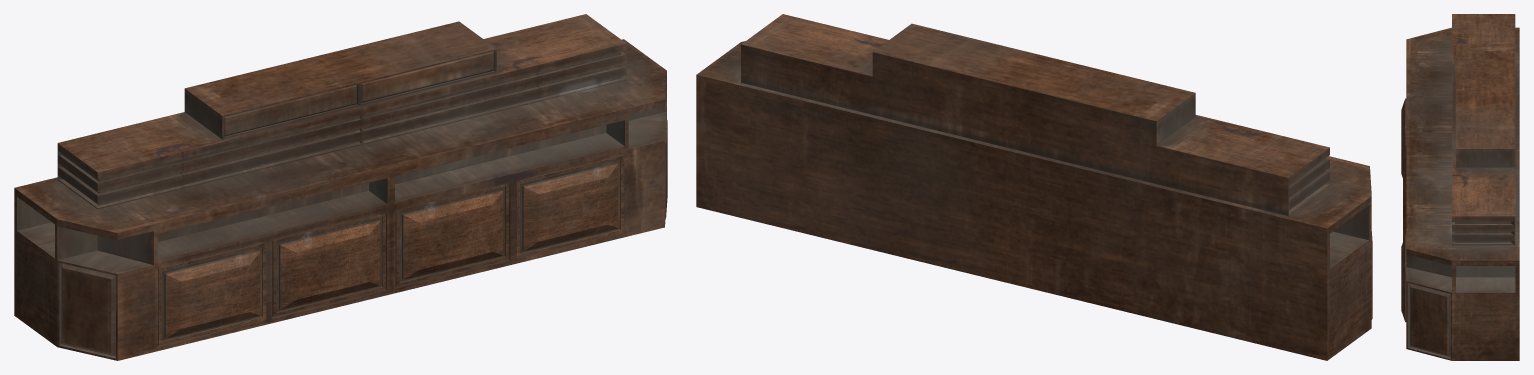
Rendered from Altar_Velorio_NEC_CENA.fbx.
3 renders of one model, left to right at view 1: azimuth 30°, elevation 25°; view 2: azimuth 150°, elevation 25°; view 3: azimuth 270°, elevation 25°, orthographic. The views are drawn at different scales.
Parts seen in each view (by area): view 1: MovelG_Sala_Velorio, Tampa_2_MovelG.001, Tampa_2_MovelG, tampa_1_MovelG, tampa_1_MovelG.001; view 2: MovelG_Sala_Velorio; view 3: MovelG_Sala_Velorio, tampa_1_MovelG.001, tampa_1_MovelG, Tampa_2_MovelG, Tampa_2_MovelG.001.
Part boxes in pixels (x1,y1,x2,y2): MovelG_Sala_Velorio: (14, 14, 667, 360); Tampa_2_MovelG.001: (395, 183, 509, 286); Tampa_2_MovelG: (272, 213, 385, 316); tampa_1_MovelG: (158, 243, 265, 345); tampa_1_MovelG.001: (517, 155, 624, 258); MovelG_Sala_Velorio: (696, 14, 1372, 360); MovelG_Sala_Velorio: (1406, 14, 1519, 360); tampa_1_MovelG.001: (1401, 235, 1406, 322); tampa_1_MovelG: (1401, 98, 1406, 177); Tampa_2_MovelG: (1403, 145, 1406, 200); Tampa_2_MovelG.001: (1403, 192, 1406, 241).
Bounding box in the file's own units: 404 × 119 × 86.62.
Materials: 1 (1 with a texture image).
